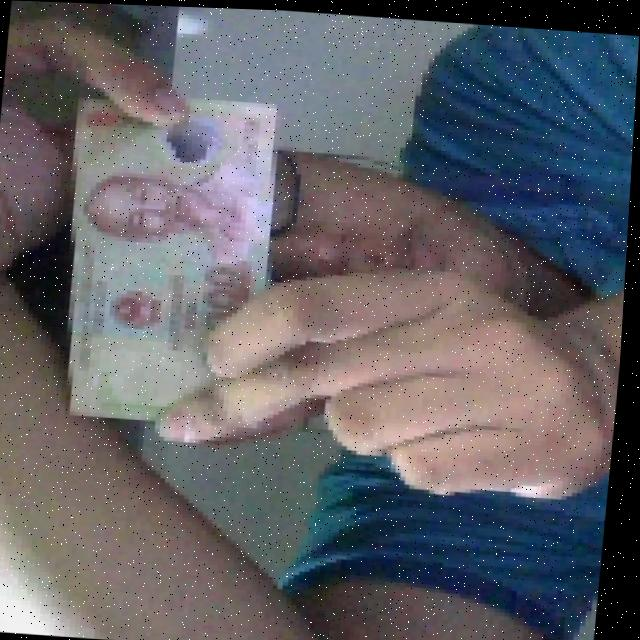10 000 VND: (43, 83, 295, 433)
